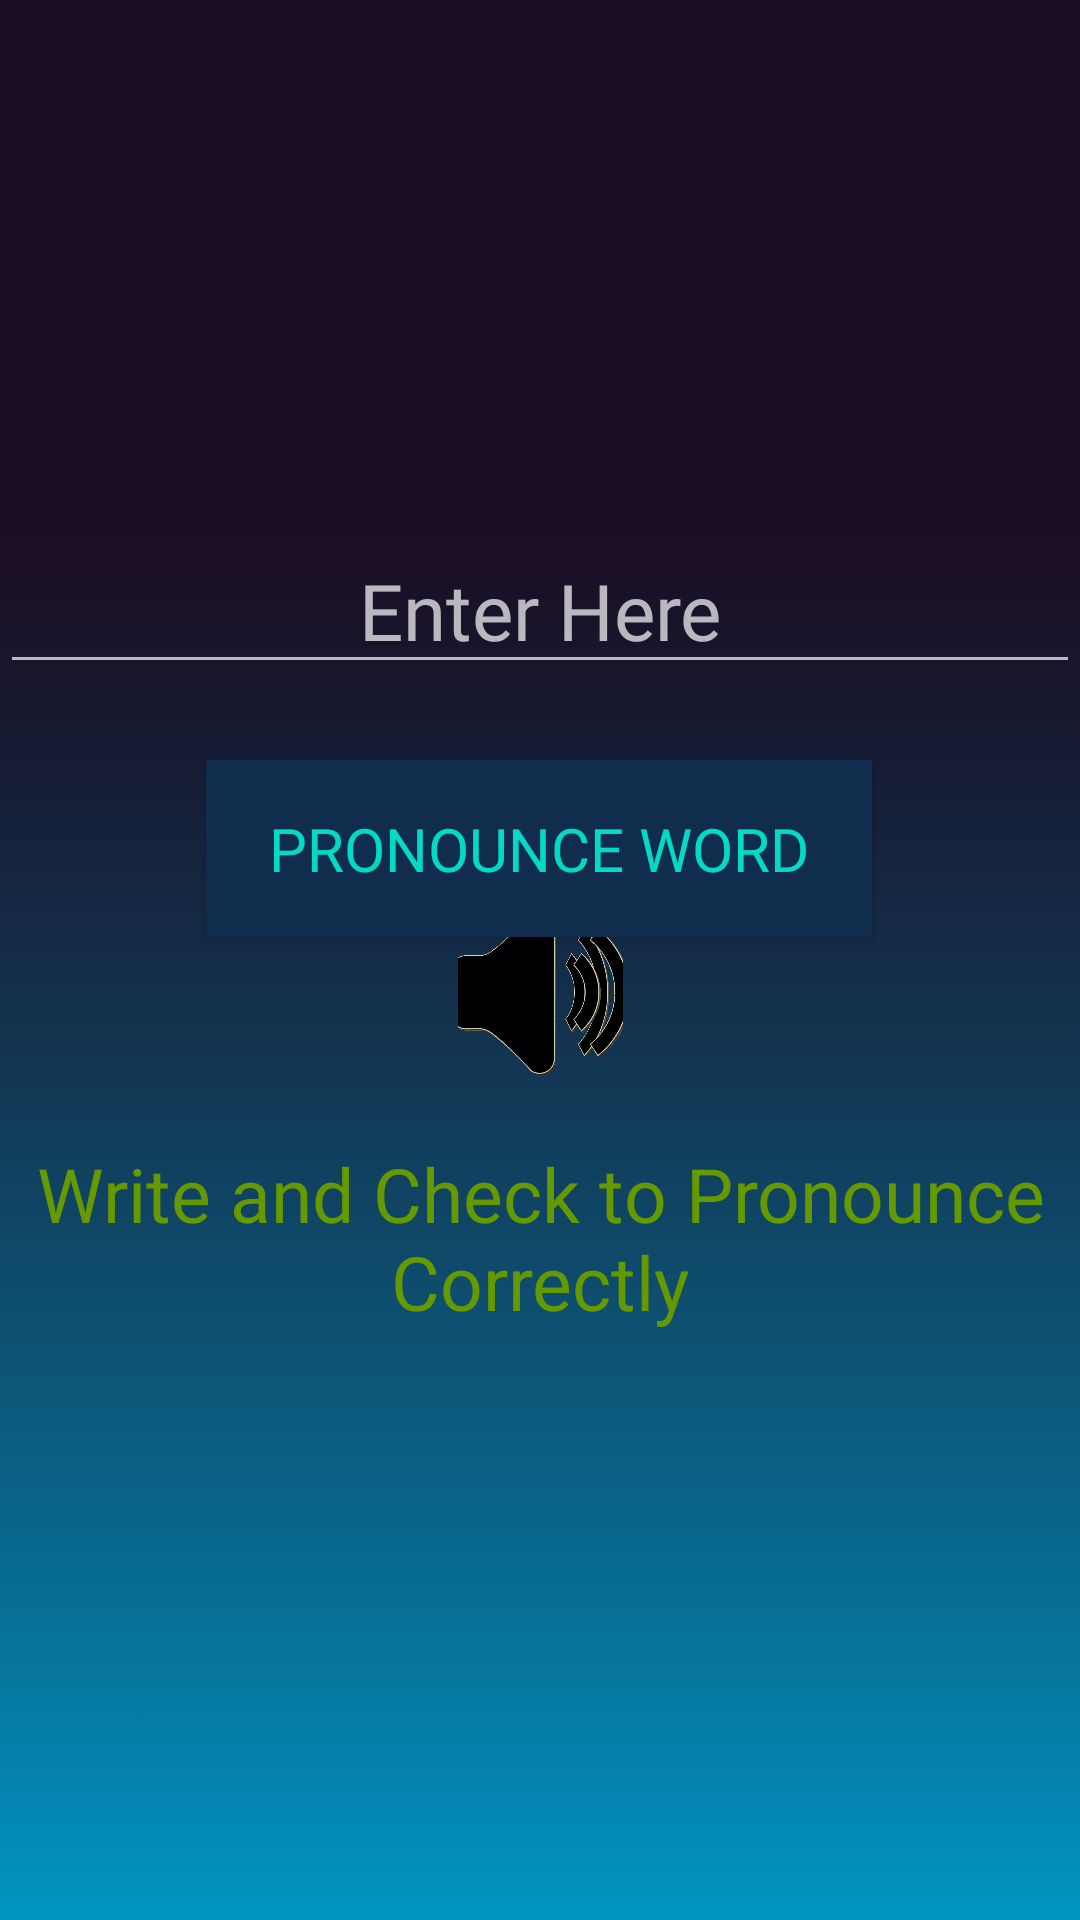

Named icons in this screenshot (1080x1920) and their centers, point (x, y):
speaker: point (540, 1006)
